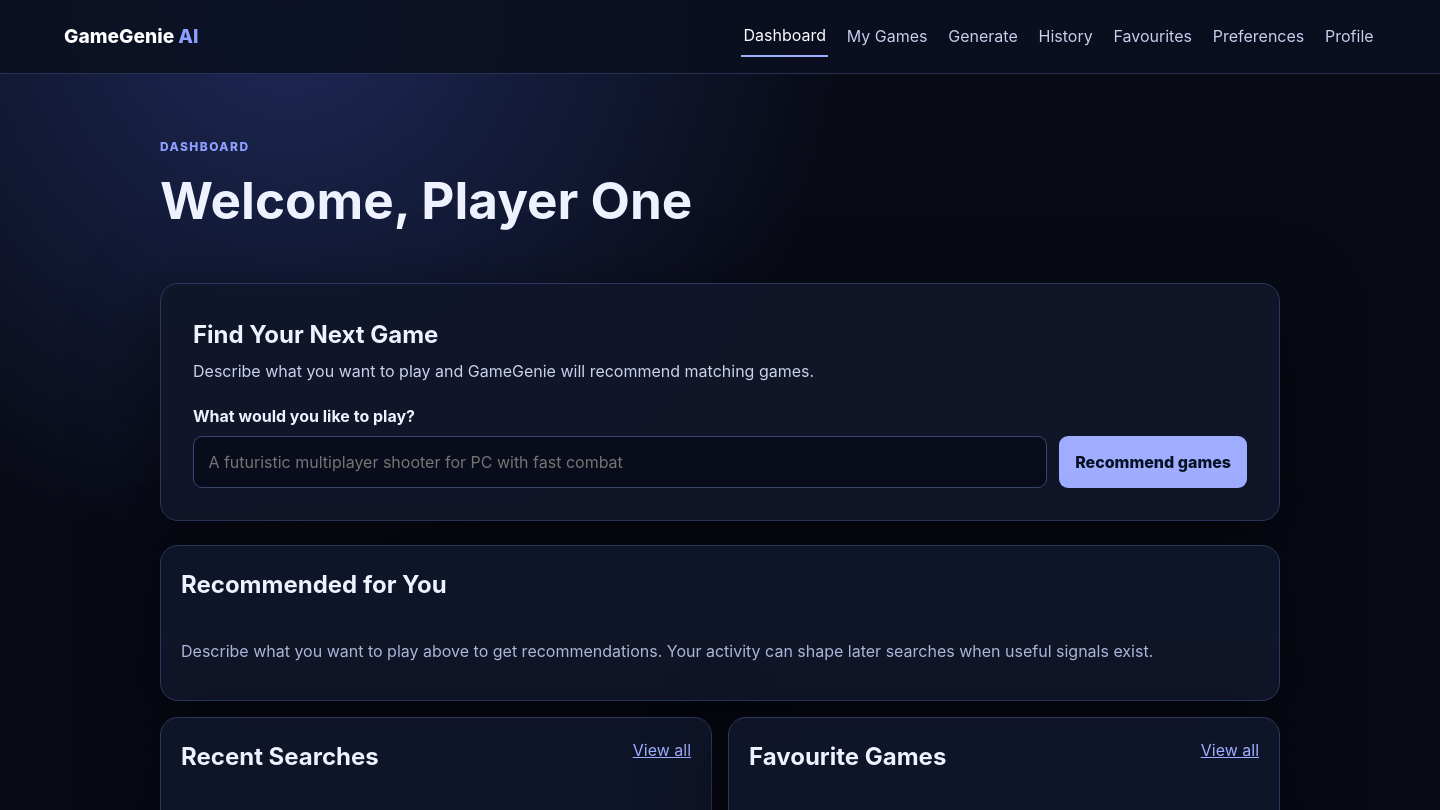
Test case: user activity UI › renders the dashboard search form and validates short queries
This screenshot has width=1440, height=810.
Expected: the heading "Find Your Next Game" is shown, [193, 320, 438, 349]
Click the button "Recommend games": (1153, 462) [1059, 436, 1247, 488]
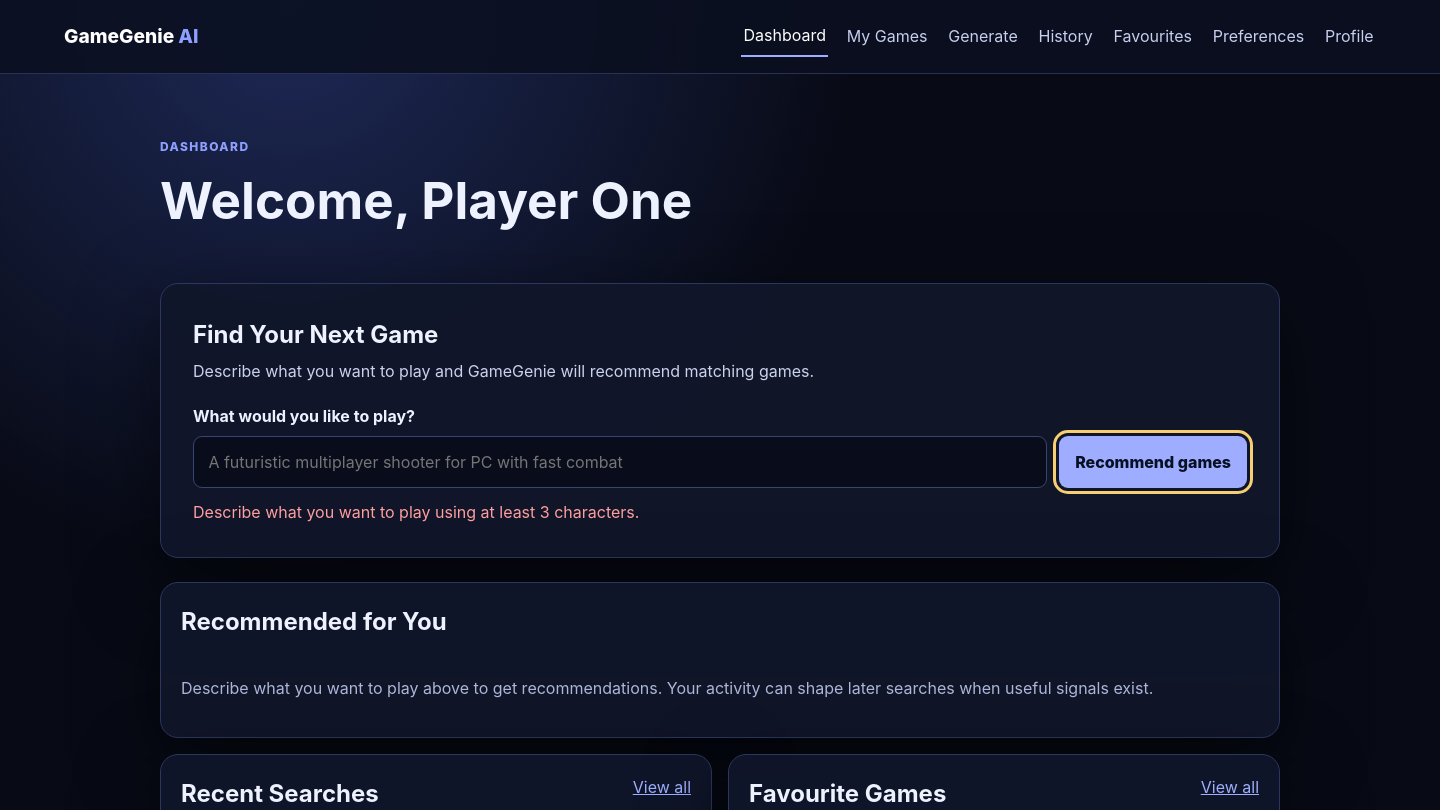
Now the message shows "at least 3 characters", box [193, 502, 639, 522]
